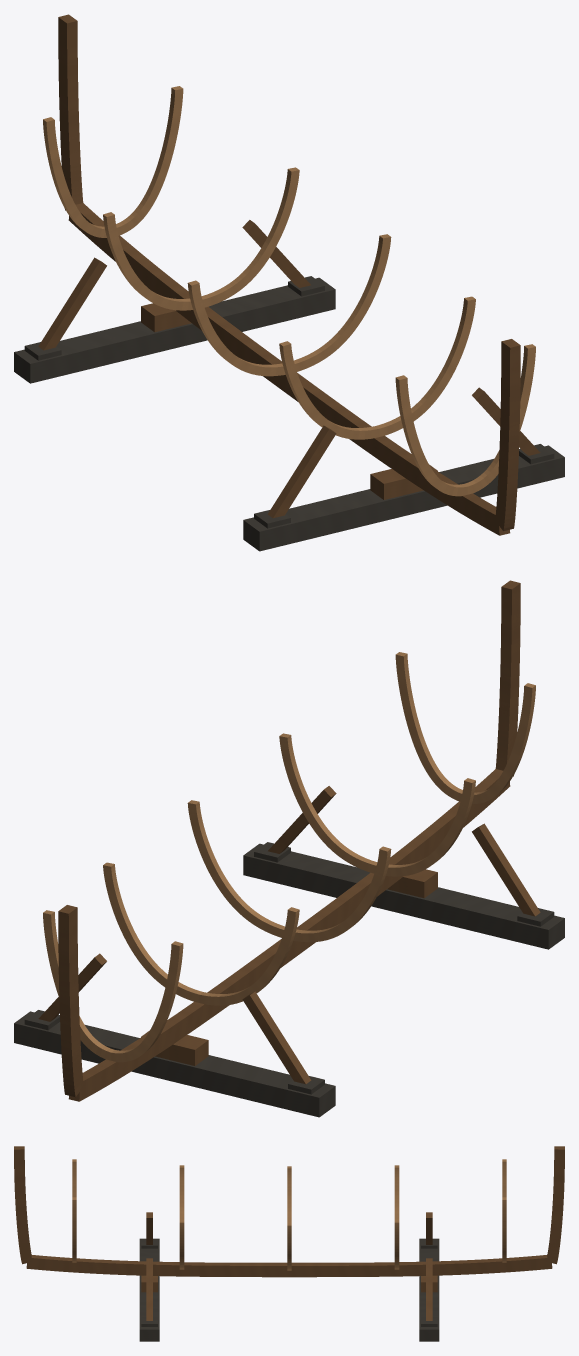
File: stage_0.glb
3 renders of one model, top to bottom at view 1: azimuth 30°, elevation 25°; view 2: azimuth 150°, elevation 25°; view 3: azimuth 270°, elevation 25°, orthographic. The views are drawn at different scales.
Parts seen in each view (by area): view 1: trestle_0_foot, spine_keel, trestle_1_foot, frame_04, frame_02, spine_bow_stem, frame_06, frame_00, spine_stern_stem, frame_08, trestle_1_brace_port, trestle_0_brace_port (+4 smaller); view 2: trestle_1_foot, spine_keel, trestle_0_foot, frame_04, frame_06, spine_stern_stem, frame_02, frame_08, spine_bow_stem, frame_00, trestle_0_brace_port, trestle_1_brace_port (+4 smaller); view 3: spine_keel, spine_bow_stem, spine_stern_stem, trestle_0_foot, trestle_1_foot, frame_02, frame_06, frame_04, frame_00, frame_08, trestle_0_brace_starboard, trestle_1_brace_starboard.
Part boxes in pixels (x1,y1,x2,y2): trestle_0_foot: (14,277,335,383); spine_keel: (68,203,510,535); trestle_1_foot: (243,445,564,551); frame_04: (187,234,391,376); frame_02: (103,167,299,310); spine_bow_stem: (495,339,520,531); frame_06: (279,296,475,439); frame_00: (43,86,183,237); spine_stern_stem: (58,14,83,210); frame_08: (395,344,535,496); trestle_1_brace_port: (267,425,336,518); trestle_0_brace_port: (38,257,106,350); trestle_1_foot: (243,843,564,949); spine_keel: (68,769,510,1101); trestle_0_foot: (14,1011,335,1117); frame_04: (187,800,391,942); frame_06: (279,733,475,876); spine_stern_stem: (58,905,83,1097); frame_02: (103,862,299,1005); frame_08: (395,652,535,803); spine_bow_stem: (495,580,520,776); frame_00: (43,910,183,1062); trestle_0_brace_port: (242,991,311,1084); trestle_1_brace_port: (472,823,540,916); spine_keel: (26,1255,552,1277); spine_bow_stem: (14,1146,32,1264); spine_stern_stem: (546,1146,564,1264); trestle_0_foot: (419,1238,439,1341); trestle_1_foot: (139,1238,159,1341); frame_02: (394,1165,399,1269); frame_06: (179,1165,184,1269); frame_04: (287,1166,291,1270); frame_00: (502,1159,506,1262); frame_08: (72,1159,76,1262); trestle_0_brace_starboard: (426,1258,432,1320); trestle_1_brace_starboard: (146,1258,152,1320).
Bounding box in the file's own units: 2.6 × 1.98 × 6.66.
3 materials, 3 textured.
